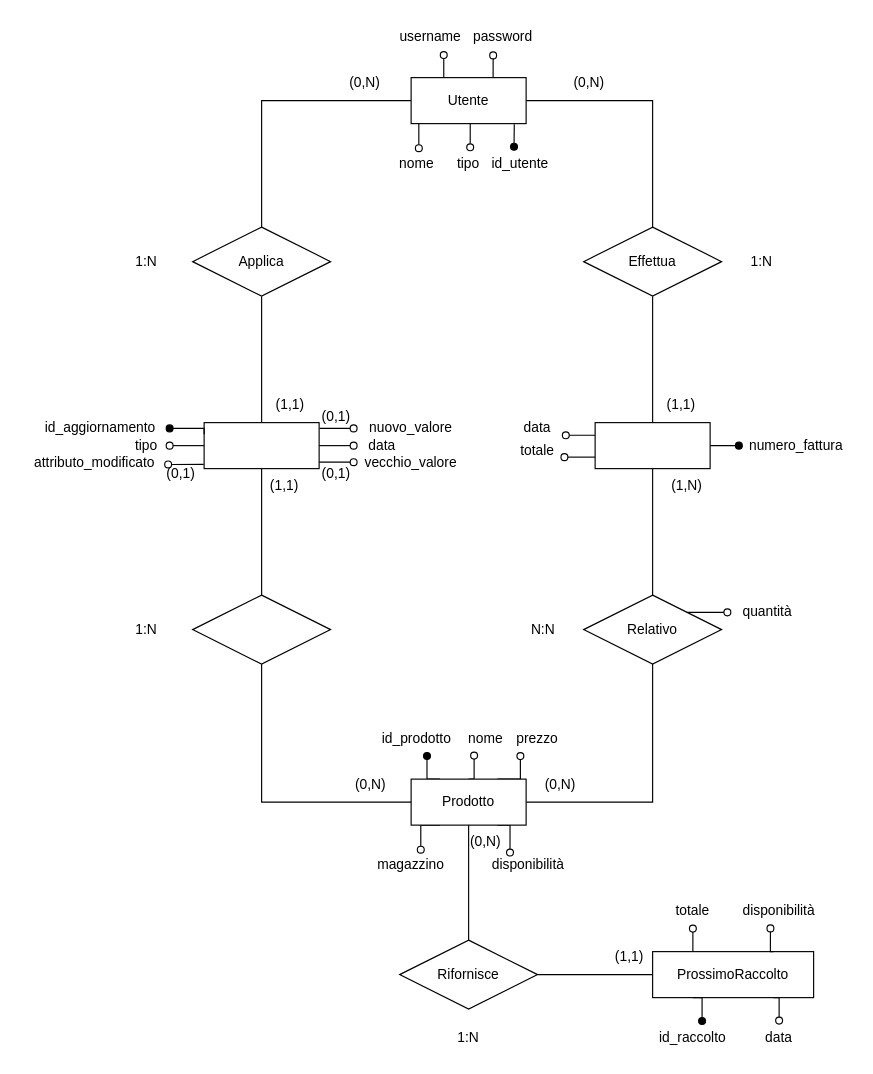
This 873x1074 diagram has some shape labels left out. Here are the shapes that lost their labels. From the top down, the centre of each, then its label:
At [261,445]: "Aggiornamento".
At [652,445]: "Acquisto".
At [261,629]: "Modifica".
